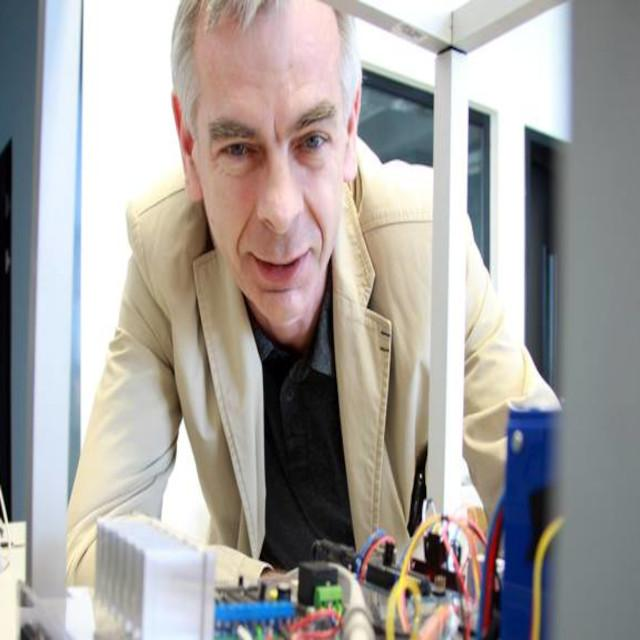mezczyzna: (69, 0, 572, 596)
